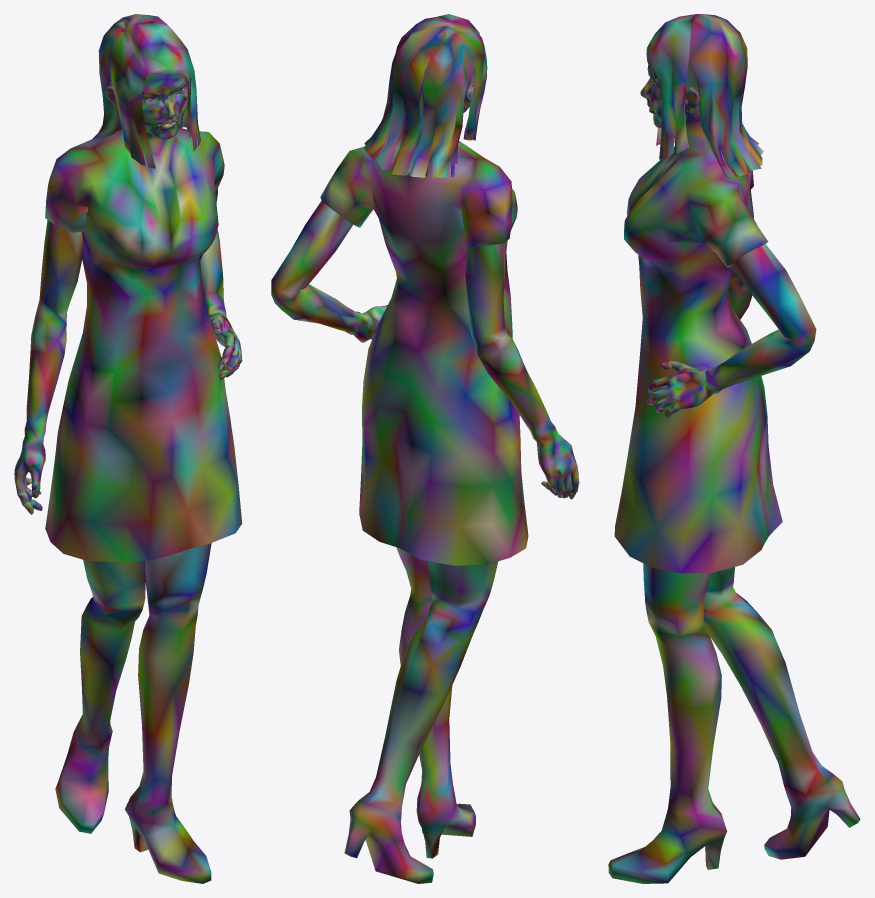
Rendered from female02_vertex_colors.obj.
3 renders of one model, left to right at view 1: azimuth 30°, elevation 25°; view 2: azimuth 150°, elevation 25°; view 3: azimuth 270°, elevation 25°, orthographic.
Visible parts, largest first — view 1: mesh1.002_mesh1-geometry, mesh3.002_mesh3-geometry, mesh5.002_mesh5-geometry, mesh6.002_mesh6-geometry, mesh4.002_mesh4-geometry, mesh2.002_mesh2-geometry; view 2: mesh1.002_mesh1-geometry, mesh5.002_mesh5-geometry, mesh6.002_mesh6-geometry, mesh4.002_mesh4-geometry, mesh3.002_mesh3-geometry, mesh2.002_mesh2-geometry; view 3: mesh1.002_mesh1-geometry, mesh3.002_mesh3-geometry, mesh5.002_mesh5-geometry, mesh6.002_mesh6-geometry, mesh2.002_mesh2-geometry, mesh4.002_mesh4-geometry.
Part boxes in pixels (box(x1,y1,x2,y2)): mesh1.002_mesh1-geometry: box(45, 69, 242, 562); mesh3.002_mesh3-geometry: box(125, 543, 211, 883); mesh5.002_mesh5-geometry: box(55, 559, 145, 833); mesh6.002_mesh6-geometry: box(92, 14, 200, 168); mesh4.002_mesh4-geometry: box(14, 220, 82, 514); mesh2.002_mesh2-geometry: box(200, 188, 242, 379); mesh1.002_mesh1-geometry: box(320, 83, 528, 565); mesh5.002_mesh5-geometry: box(344, 561, 498, 883); mesh6.002_mesh6-geometry: box(364, 14, 487, 178); mesh4.002_mesh4-geometry: box(465, 242, 579, 499); mesh3.002_mesh3-geometry: box(396, 547, 475, 858); mesh2.002_mesh2-geometry: box(271, 201, 387, 342); mesh1.002_mesh1-geometry: box(614, 59, 782, 573); mesh3.002_mesh3-geometry: box(608, 563, 727, 883); mesh5.002_mesh5-geometry: box(703, 567, 860, 859); mesh6.002_mesh6-geometry: box(646, 14, 763, 179); mesh2.002_mesh2-geometry: box(646, 244, 816, 418); mesh4.002_mesh4-geometry: box(728, 190, 753, 319).
Size of the model in its own units: 53.04 by 168 by 45.25.
